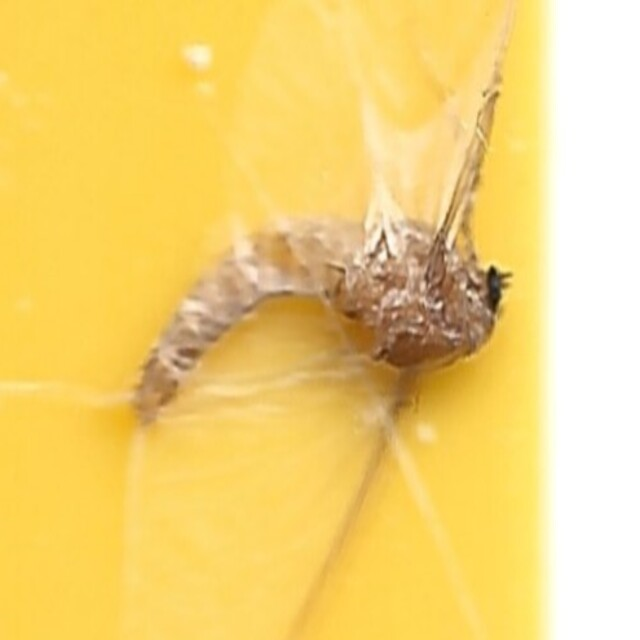Ephemeroptera: (129, 202, 511, 438)
